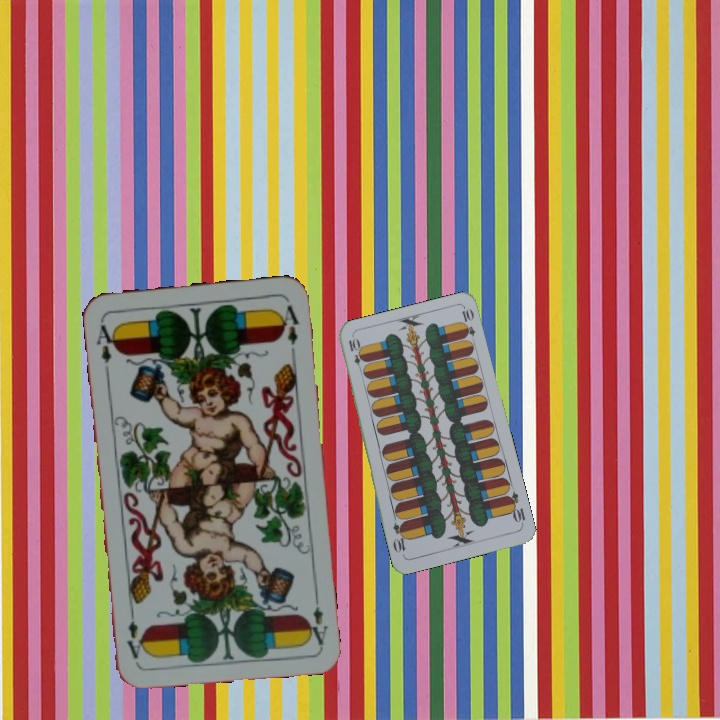E10: (502, 488, 528, 528), (344, 334, 366, 375)
EA: (302, 589, 331, 648), (92, 316, 120, 375)
